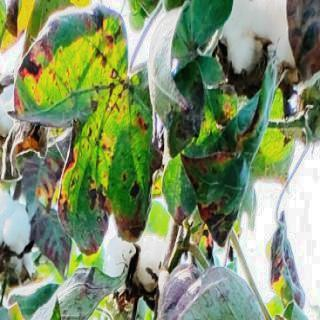blight: (9, 10, 162, 250), (166, 71, 284, 245)
